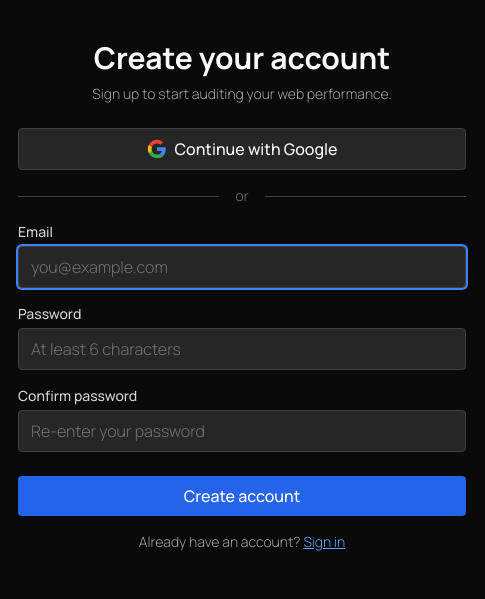
Test: P-PERF-137-002: User tries to sign up with existing email › shows error banner for email already in use
Type "existing@example.com" into the field with test id "signup-email-input" at (242, 267), box [18,246,466,288]
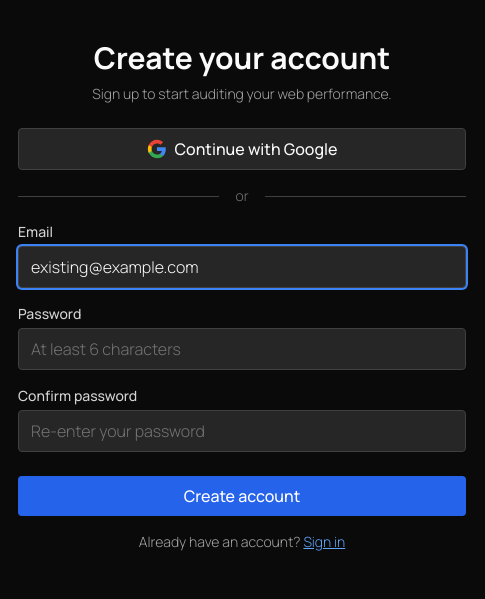
Type "password123" into the password field with test id "signup-password-input" at (242, 349), box [18,328,466,370]
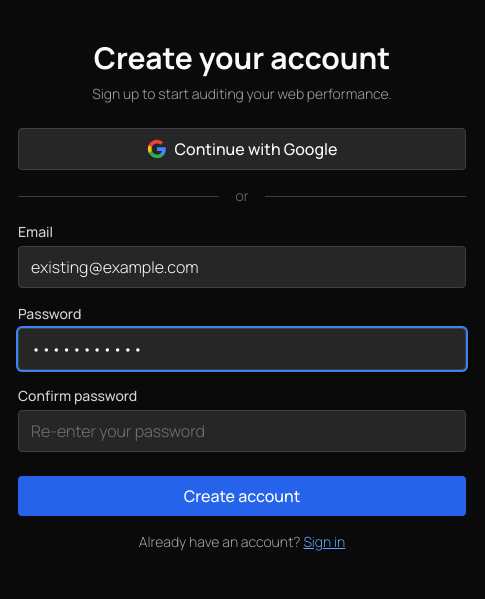
Type "password123" into the password field with test id "signup-confirm-input" at (242, 431), box [18,410,466,452]
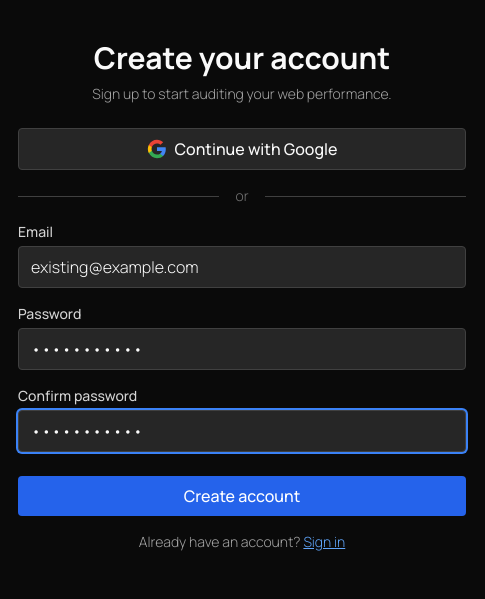
Click the button with test id "signup-submit" at (242, 496), box [18,476,466,516]
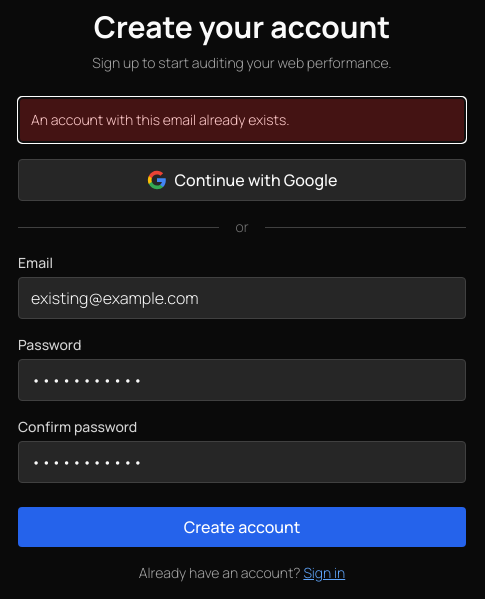
Expected: the message "An account with this email already exists." is shown, [18,97,466,143]
Expected: the message reads "An account with this email already exists.", [31,110,290,129]
